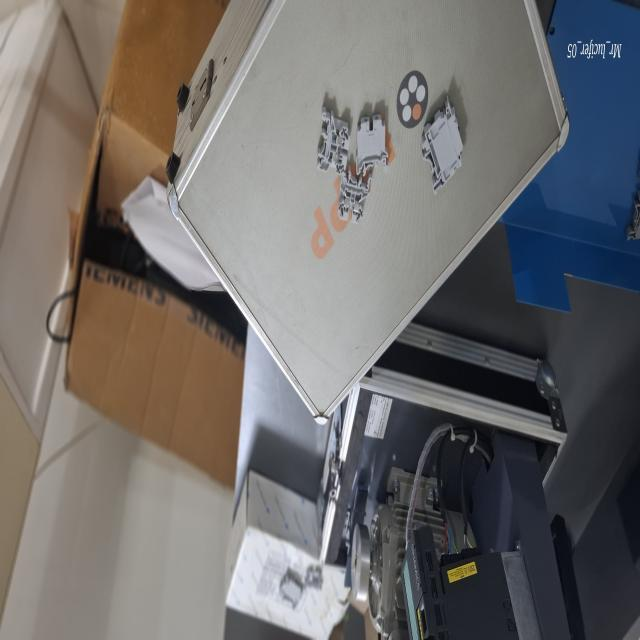Inverted: (351, 98, 391, 178)
Pass: (314, 98, 354, 178), (334, 170, 374, 226)
